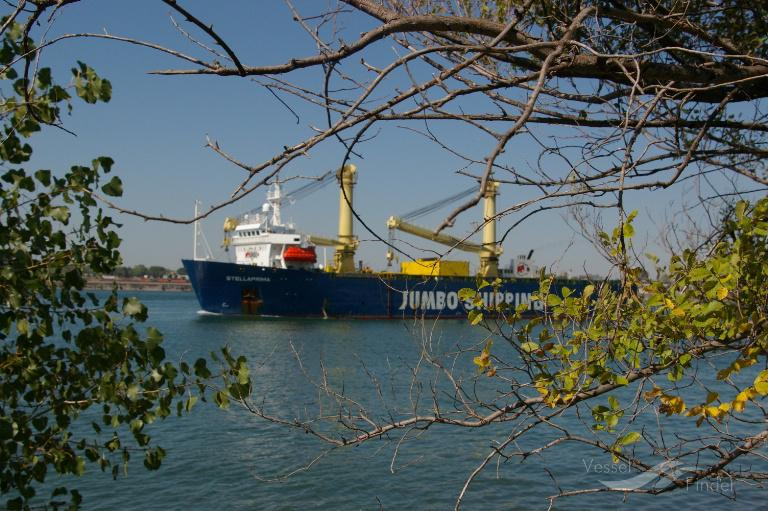OCR: (394, 284, 554, 322)
